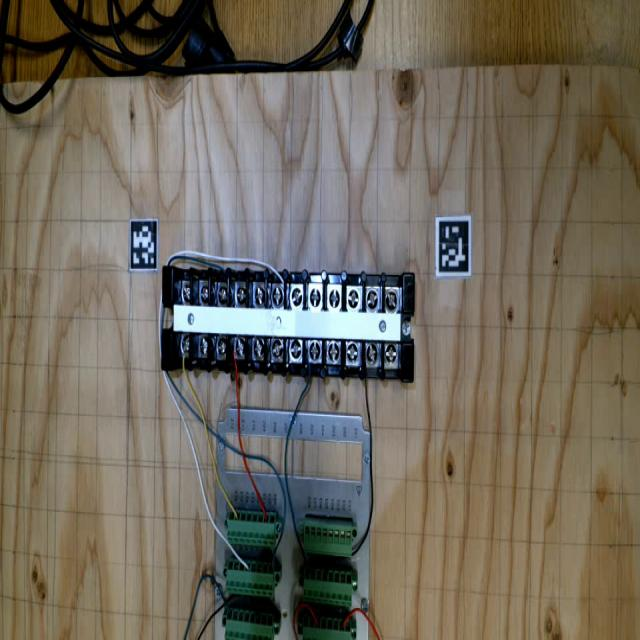Phillips_Block: (157, 260, 419, 382)
Terminal_2: (300, 565, 355, 607), (225, 508, 278, 548), (224, 558, 276, 597), (224, 607, 275, 640), (303, 614, 351, 639)
